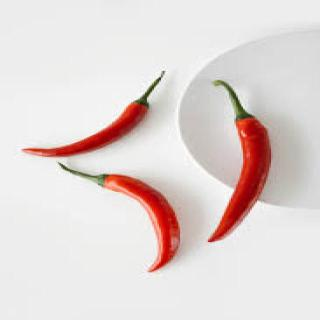Cabai Merah: (61, 169, 183, 274), (22, 76, 166, 163), (209, 82, 274, 242)
